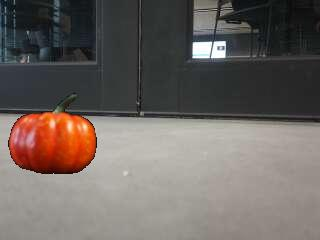Pumpkin: (9, 94, 97, 176)
